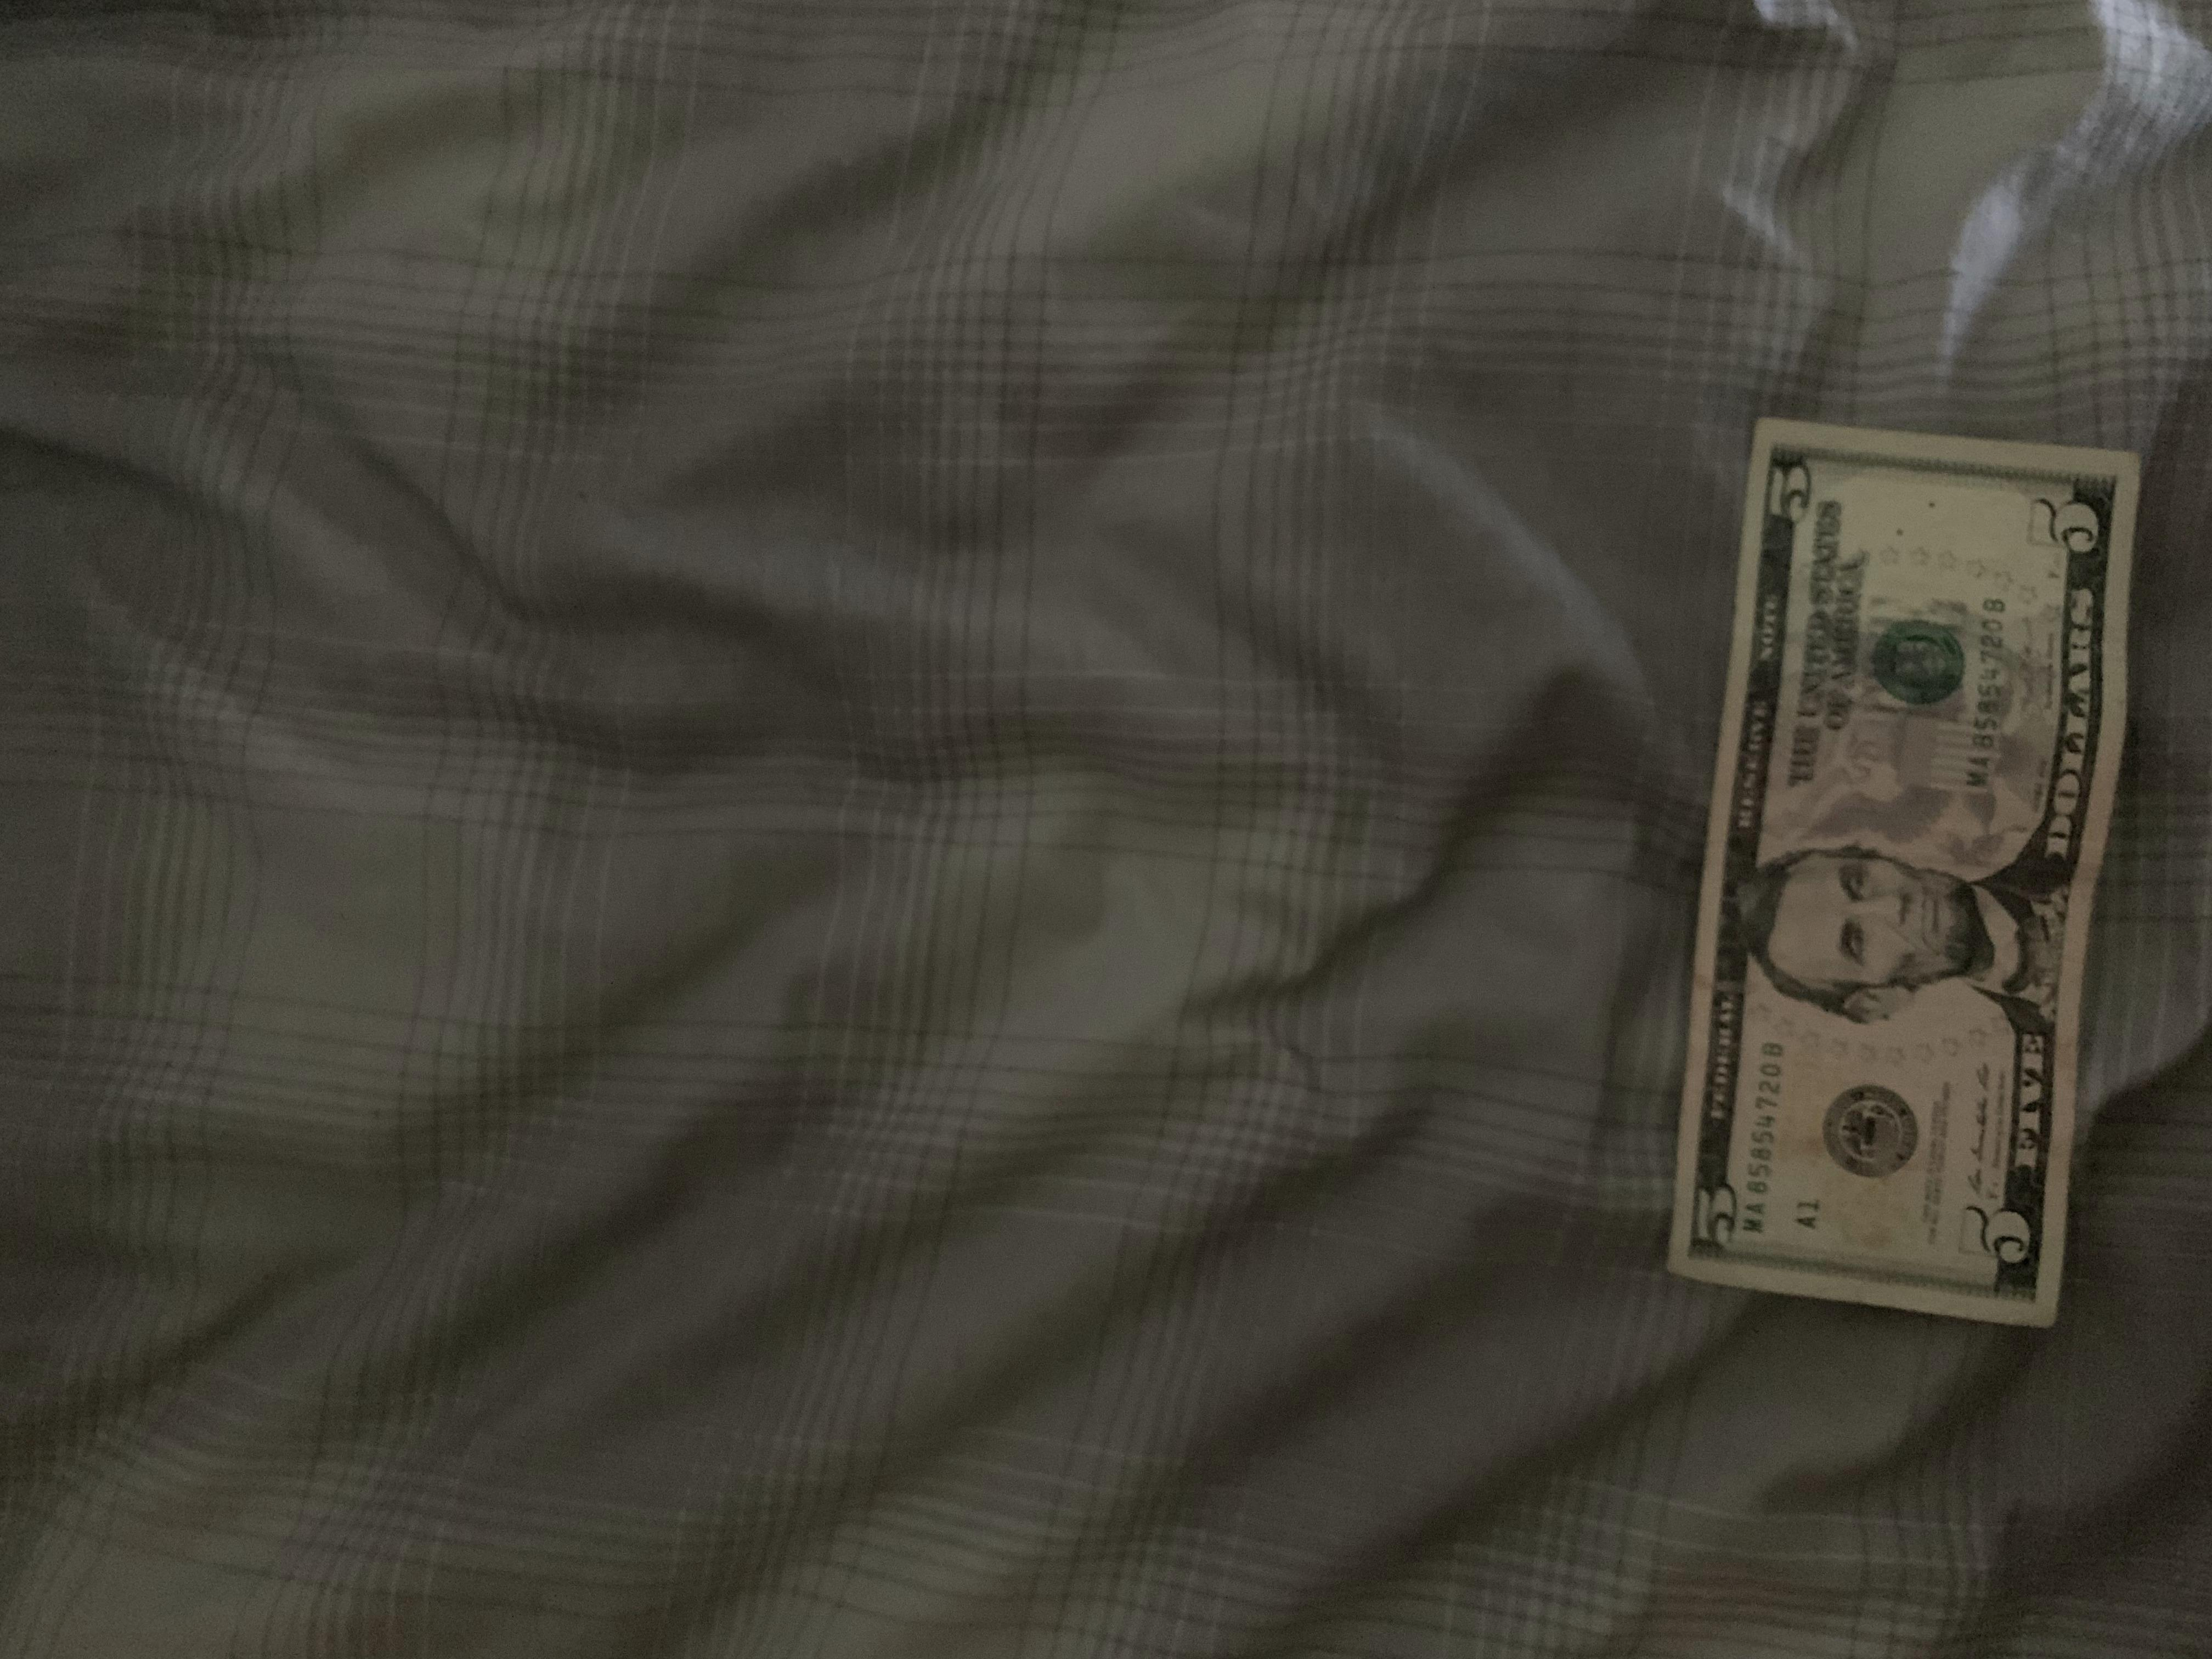FiveBill: (1651, 413, 2148, 1338)
